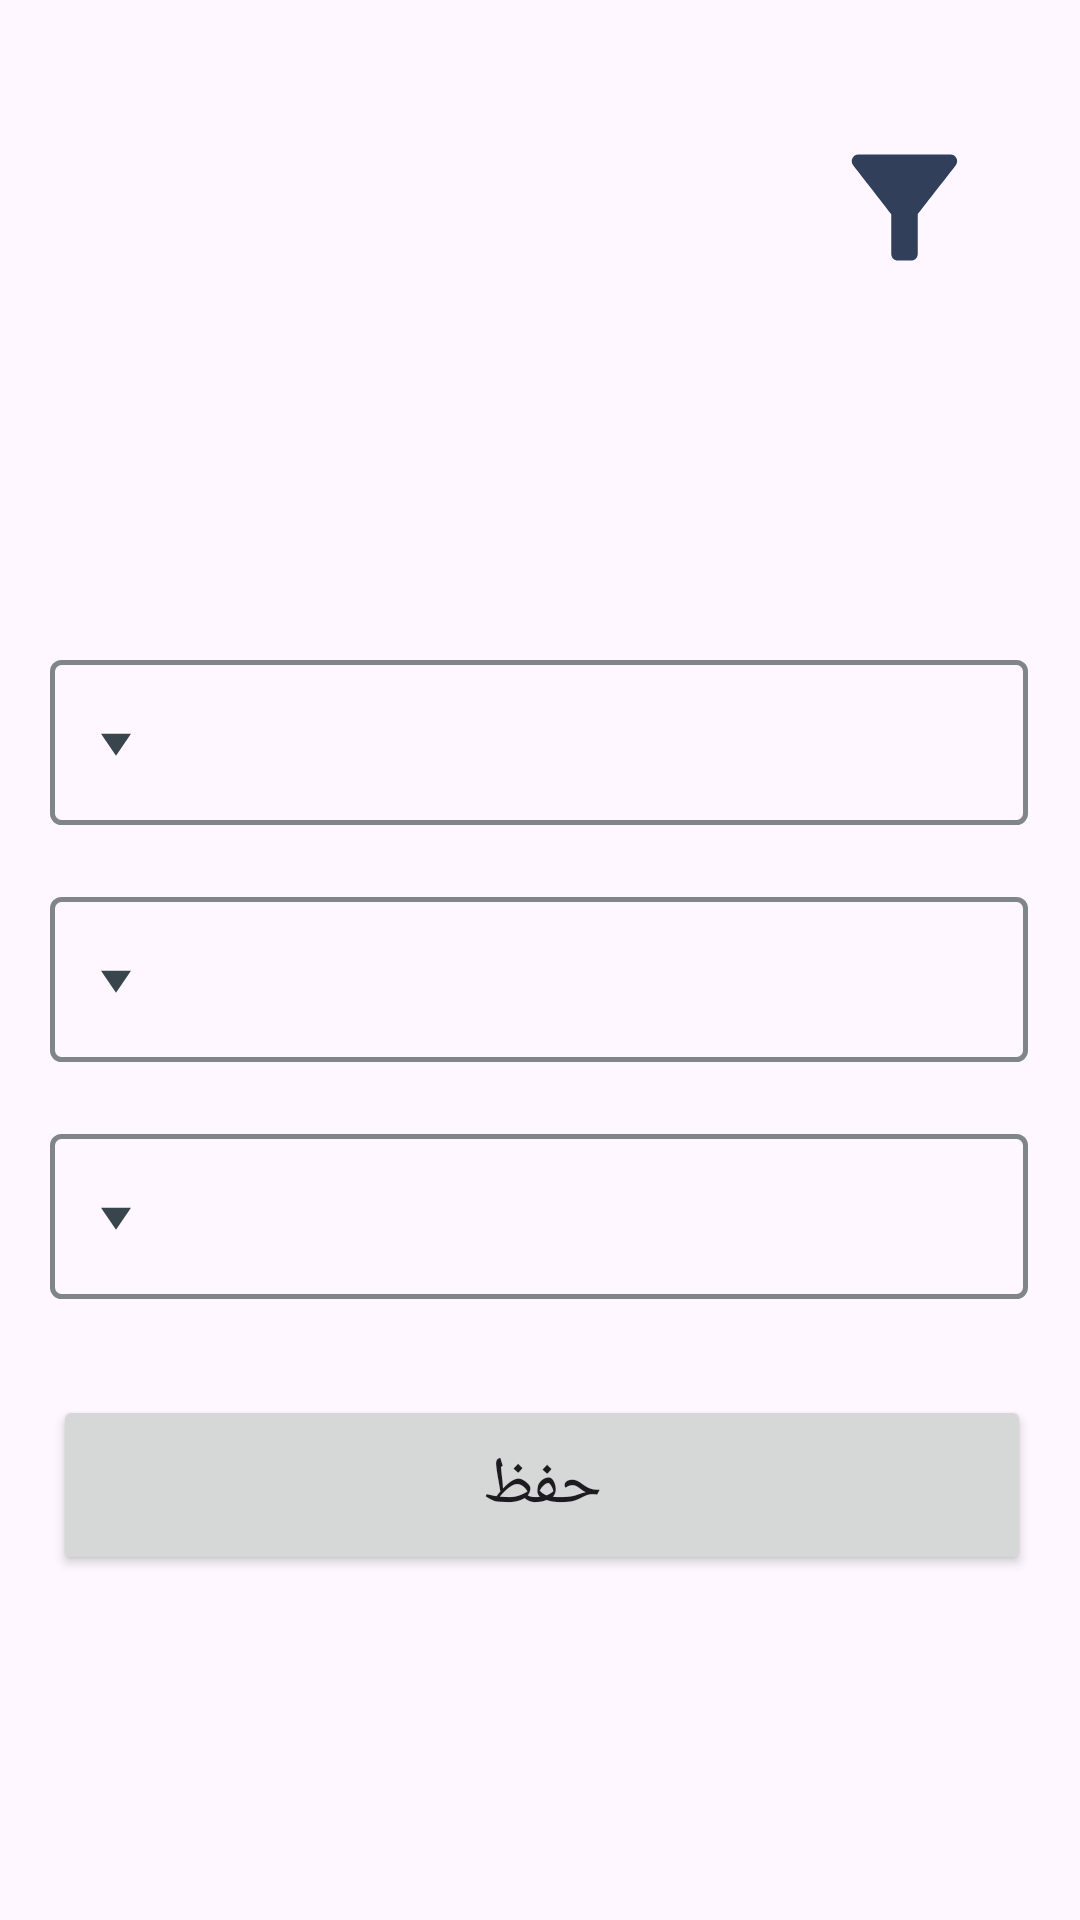

Point at icon controls on the screen. Image size 1080px x 1920px, points as (x,y).
filter: (904,207)
